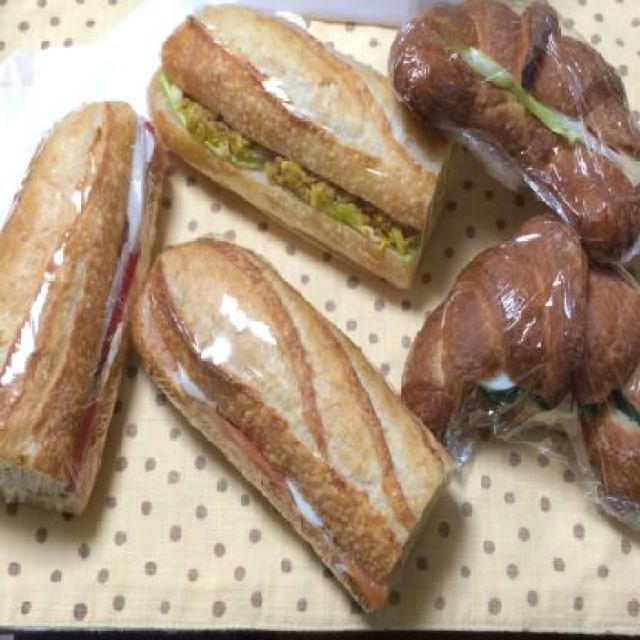Bread: (121, 228, 444, 608), (398, 210, 640, 504), (160, 3, 463, 232), (387, 0, 640, 264), (144, 69, 433, 288), (0, 131, 162, 514), (0, 97, 135, 490)
